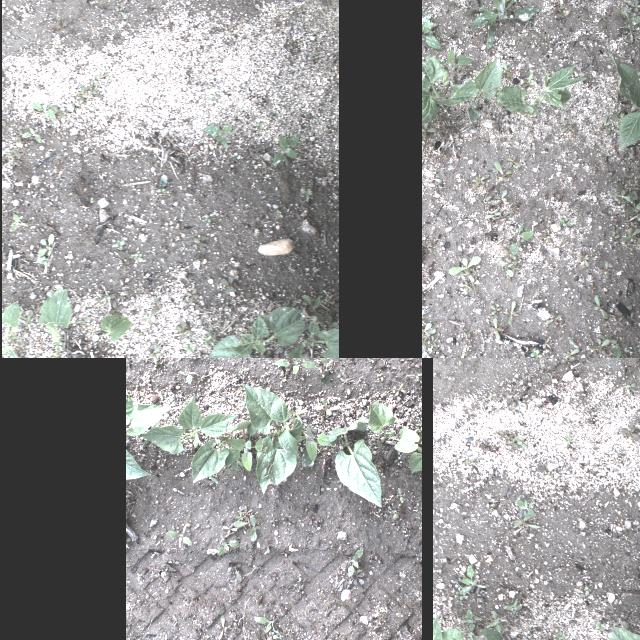crop: (242, 382, 302, 492), (141, 394, 239, 454), (203, 305, 307, 358), (328, 414, 380, 506), (494, 63, 586, 113), (422, 49, 475, 122), (190, 420, 252, 482), (262, 318, 337, 358), (610, 52, 640, 152), (37, 286, 73, 358), (368, 402, 419, 452), (468, 60, 502, 120), (1, 300, 33, 358), (125, 393, 169, 435), (409, 412, 422, 488), (270, 134, 300, 166), (98, 314, 132, 342), (202, 122, 238, 146), (432, 615, 461, 640), (126, 449, 150, 479), (30, 104, 62, 120)
weed: (466, 0, 539, 49), (223, 416, 271, 470), (294, 426, 334, 466), (448, 253, 478, 281), (458, 564, 486, 594), (618, 5, 640, 42), (422, 13, 442, 49), (273, 358, 316, 374), (164, 522, 192, 546), (302, 294, 322, 322), (347, 544, 363, 578), (625, 188, 640, 223), (254, 617, 280, 637), (314, 397, 340, 415), (461, 609, 482, 631), (512, 512, 540, 528), (217, 534, 239, 554), (36, 233, 54, 257), (606, 186, 630, 204), (8, 212, 28, 232), (245, 514, 259, 542), (174, 320, 193, 340), (594, 294, 608, 320), (621, 421, 640, 440), (493, 160, 511, 180), (499, 259, 518, 277), (488, 316, 502, 339), (514, 226, 534, 242), (589, 337, 609, 353), (502, 240, 518, 260), (622, 226, 640, 243), (23, 126, 41, 142), (490, 188, 508, 204), (234, 504, 252, 520), (502, 598, 520, 614), (178, 371, 200, 384), (506, 298, 516, 326), (227, 562, 241, 582), (514, 500, 534, 514), (607, 344, 626, 358), (319, 358, 329, 384), (74, 86, 88, 104), (300, 186, 314, 202), (471, 174, 487, 188), (522, 70, 536, 86), (490, 610, 500, 632), (545, 312, 563, 324), (422, 123, 437, 137), (187, 286, 200, 302), (600, 114, 610, 134), (192, 234, 206, 248), (55, 20, 69, 34), (429, 168, 443, 182), (506, 153, 520, 167), (392, 382, 406, 396), (147, 343, 160, 358), (422, 321, 435, 336), (507, 201, 519, 217), (353, 569, 365, 585), (221, 522, 237, 534), (215, 614, 222, 640), (561, 349, 580, 358), (202, 331, 215, 344), (109, 300, 123, 312), (86, 80, 98, 94), (490, 302, 502, 316), (622, 172, 636, 184), (502, 63, 514, 77), (262, 538, 274, 552), (157, 175, 167, 191), (150, 298, 160, 314), (604, 260, 612, 280), (579, 250, 589, 266), (484, 191, 500, 201), (422, 240, 432, 256), (114, 5, 126, 17), (586, 280, 598, 292), (600, 333, 616, 342), (515, 436, 527, 448), (627, 0, 640, 11), (223, 278, 233, 292), (101, 292, 115, 302), (538, 233, 552, 243), (458, 280, 472, 290), (560, 122, 574, 132), (609, 110, 623, 120), (478, 440, 492, 450), (5, 150, 22, 158), (558, 216, 570, 227), (427, 334, 438, 346), (624, 381, 636, 392), (485, 211, 501, 219), (396, 487, 404, 503), (290, 406, 306, 414), (529, 347, 540, 358), (568, 338, 580, 348), (13, 128, 21, 142), (234, 520, 248, 528), (455, 586, 463, 600), (202, 216, 212, 226), (115, 240, 125, 250), (90, 74, 100, 84), (626, 310, 636, 320), (555, 318, 565, 328), (507, 437, 517, 447), (182, 344, 194, 352), (612, 316, 624, 324), (554, 4, 566, 12), (542, 336, 550, 348), (494, 136, 506, 144), (564, 435, 572, 447), (466, 331, 472, 345), (276, 208, 284, 218), (132, 252, 142, 260), (39, 256, 49, 264), (515, 354, 535, 358), (462, 346, 470, 356), (390, 508, 398, 518), (596, 620, 604, 630), (140, 315, 152, 321), (462, 457, 474, 463), (545, 469, 553, 478), (506, 432, 514, 440), (493, 113, 503, 119), (612, 229, 618, 239), (490, 499, 498, 506), (422, 155, 433, 160), (488, 392, 497, 398), (309, 54, 321, 58), (256, 122, 264, 128), (614, 175, 622, 181), (626, 348, 634, 354), (570, 132, 576, 140), (555, 632, 563, 638), (499, 430, 505, 436), (334, 237, 338, 245), (107, 77, 115, 81), (102, 68, 106, 76), (54, 44, 62, 48), (585, 585, 589, 593), (89, 195, 93, 202), (212, 92, 216, 98), (607, 210, 613, 214), (513, 164, 517, 170), (422, 342, 425, 349), (463, 630, 465, 634)
